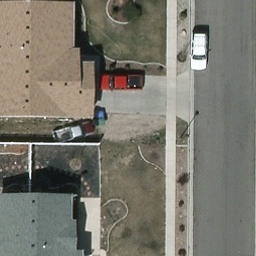car: (191, 34, 207, 72)
pickup: (49, 118, 100, 148), (99, 74, 145, 91)
